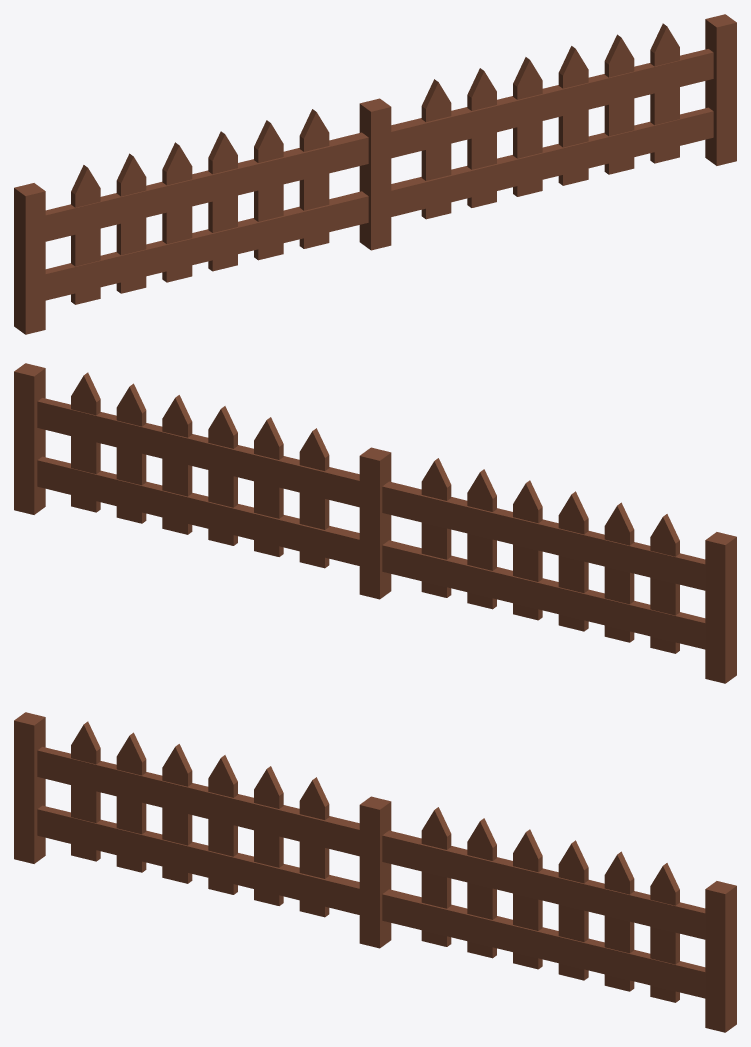
The model's file is quaternius-farm-buildings-fence-2.glb.
The picture shows the model from 3 angles, top to bottom: view 1: azimuth 30°, elevation 25°; view 2: azimuth 150°, elevation 25°; view 3: azimuth 330°, elevation 25°; orthographic projection.
Visible parts, largest first — view 1: Fence2; view 2: Fence2; view 3: Fence2.
Part boxes in pixels (x1=…): Fence2: x1=14, y1=14, x2=736, y2=334; Fence2: x1=14, y1=363, x2=736, y2=683; Fence2: x1=14, y1=712, x2=736, y2=1032.
Bounding box in the file's own units: 5.89 × 1.17 × 0.1654.
